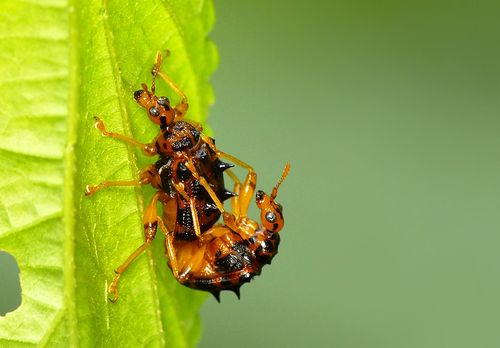Curculionidae: (83, 48, 238, 307), (155, 130, 289, 307)
